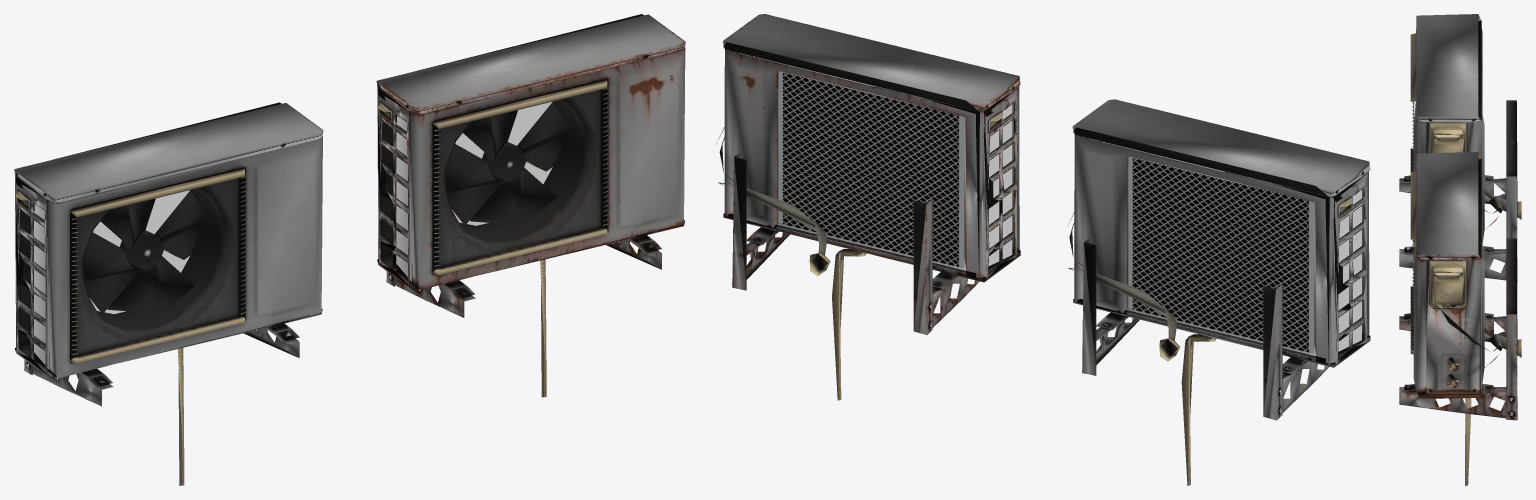
File: scene-aircon.glb
The picture shows the model from 3 angles, left to right: view 1: azimuth 30°, elevation 25°; view 2: azimuth 150°, elevation 25°; view 3: azimuth 270°, elevation 25°; orthographic projection. The views are drawn at different scales.
Visible parts, largest first — view 1: exterior_aircon_unit_rusted, exterior_aircon_unit; view 2: exterior_aircon_unit_rusted, exterior_aircon_unit; view 3: exterior_aircon_unit_rusted, exterior_aircon_unit.
Boxes of the visible parts, bbox=[...] form: exterior_aircon_unit_rusted: bbox=[376, 14, 685, 397]; exterior_aircon_unit: bbox=[14, 102, 323, 485]; exterior_aircon_unit_rusted: bbox=[715, 14, 1020, 400]; exterior_aircon_unit: bbox=[1068, 99, 1370, 485]; exterior_aircon_unit_rusted: bbox=[1399, 152, 1521, 485]; exterior_aircon_unit: bbox=[1399, 14, 1521, 281].
Bounding box in the file's own units: 1.8 × 0.9228 × 0.3741.
Materials: 4 (4 with a texture image).
